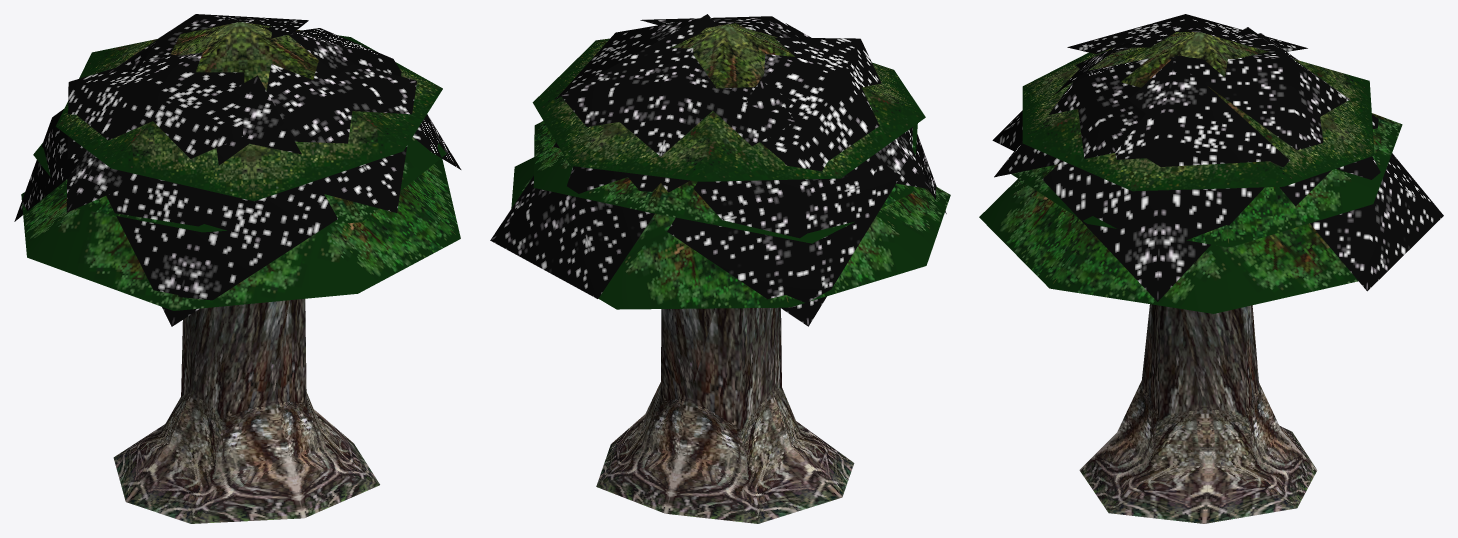
Rendered from hesperides_tree_base.glb.
3 renders of one model, left to right at view 1: azimuth 30°, elevation 25°; view 2: azimuth 150°, elevation 25°; view 3: azimuth 270°, elevation 25°, orthographic. The views are drawn at different scales.
Visible parts, largest first — view 1: MeshRoot; view 2: MeshRoot; view 3: MeshRoot.
Part boxes in pixels (box(x1,y1,x2,y2)): MeshRoot: box(14, 14, 461, 523); MeshRoot: box(490, 14, 950, 523); MeshRoot: box(979, 14, 1443, 523).
Bounding box in the file's own units: 11.94 × 12.38 × 11.94.
2 materials, 2 textured.
